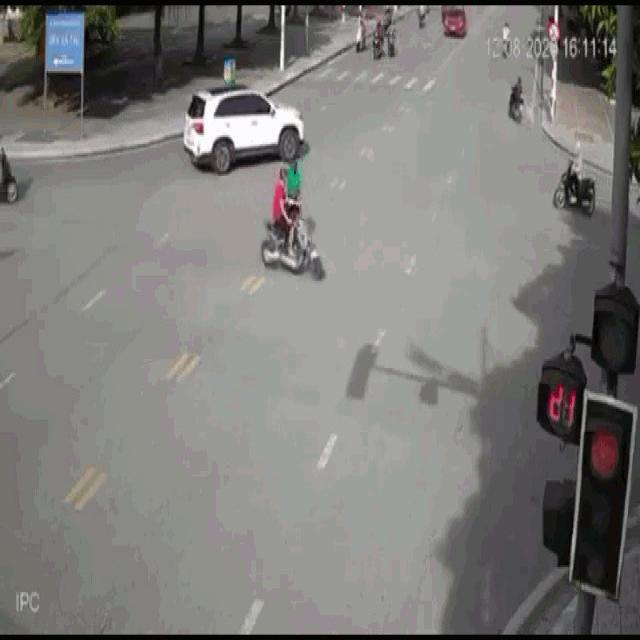multiple_accident: (255, 153, 329, 289)
